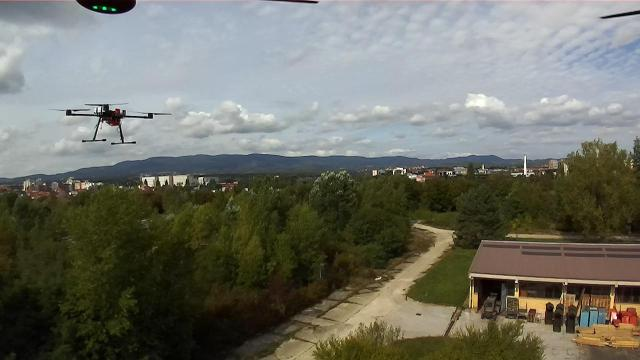drone: (0, 53, 202, 177)
